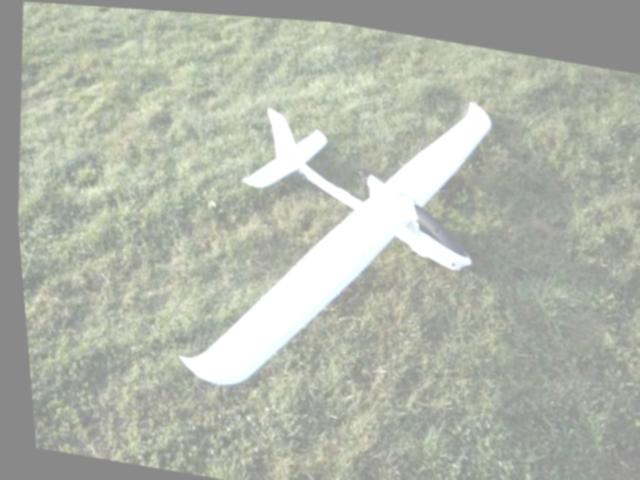uav: (142, 37, 525, 438)
